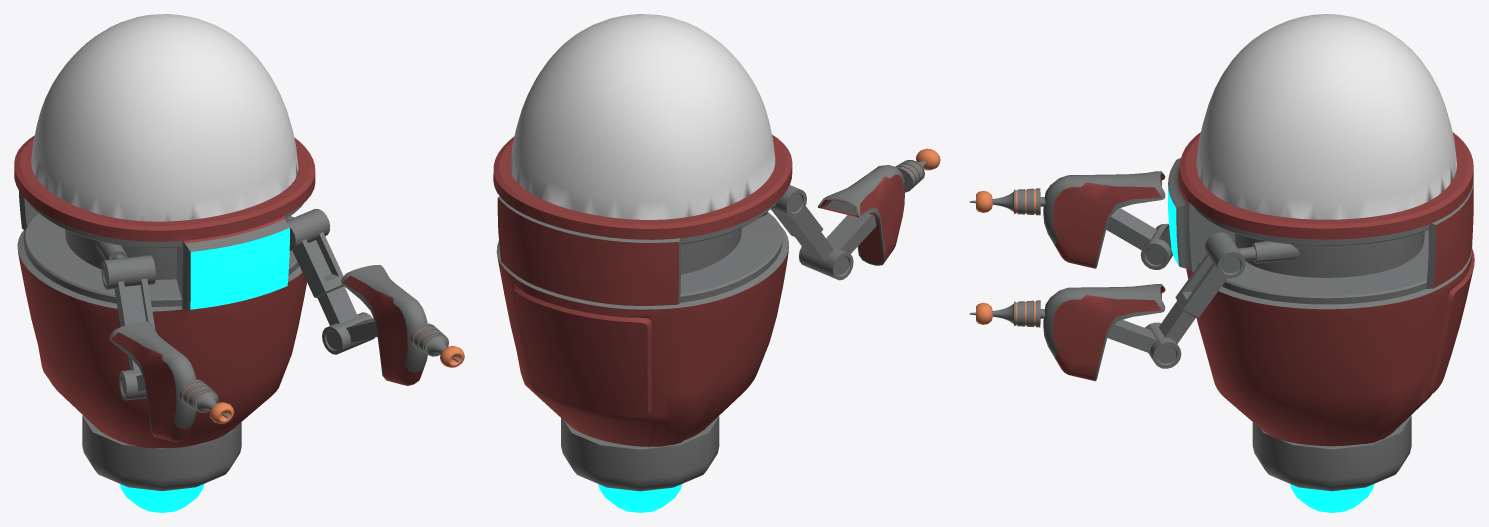
3 views of the same model, side by side, from view 1: azimuth 30°, elevation 25°; view 2: azimuth 150°, elevation 25°; view 3: azimuth 270°, elevation 25° (orthographic).
Parts seen in each view (by area): view 1: Corpo, BraccioSinistro, BraccioDestro, Schermo; view 2: Corpo, BraccioDestro; view 3: Corpo, BraccioSinistro, BraccioDestro, Schermo.
Boxes of the visible parts, x1,y1,x2,y2 form: Corpo: (14, 14, 315, 512); BraccioSinistro: (285, 209, 464, 385); BraccioDestro: (96, 241, 234, 442); Schermo: (182, 216, 289, 309); Corpo: (493, 14, 792, 512); BraccioDestro: (759, 148, 940, 280); Corpo: (1179, 14, 1474, 512); BraccioSinistro: (969, 232, 1299, 381); BraccioDestro: (969, 171, 1172, 269); Schermo: (1168, 158, 1191, 270).
Bounding box in the file's own units: 255 × 430 × 408.
